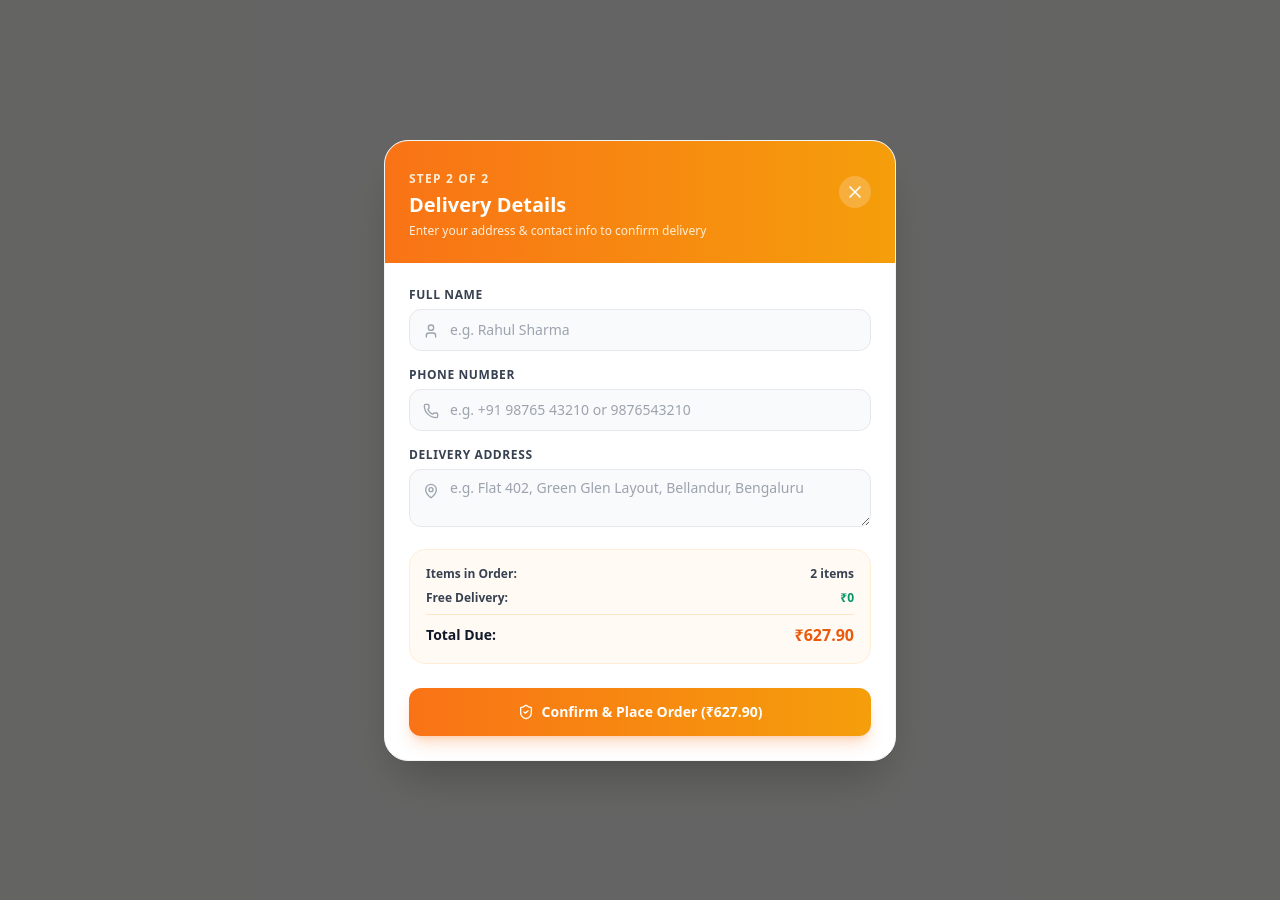
UI Components (TDD) › CheckoutModal Component › displays client-side validation errors when submitting empty form
Click the button "Confirm & Place Order (₹627.90)" at (640, 712), box [409, 688, 871, 736]
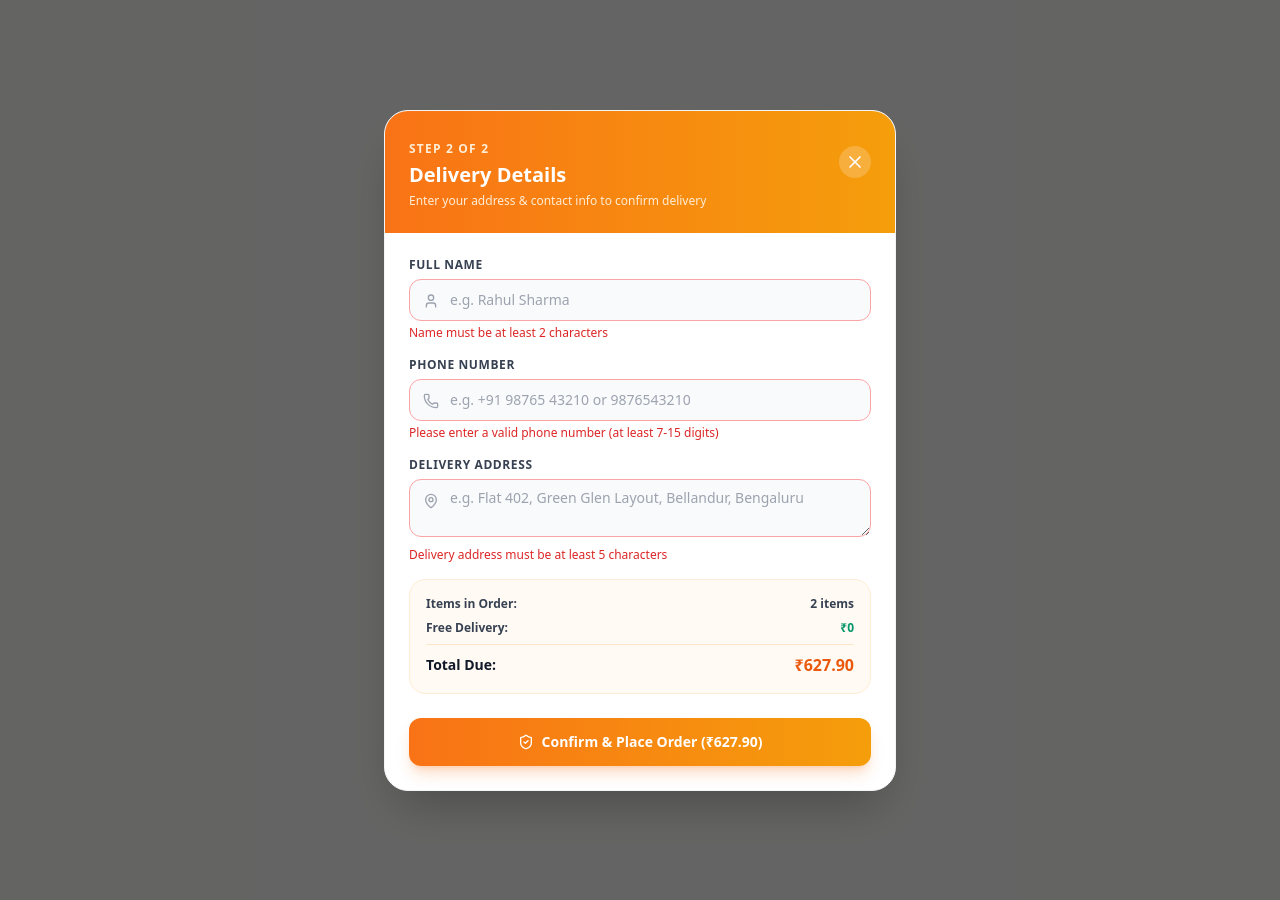
Now the text "Name must be at least 2 characters" is shown, box [409, 324, 608, 340]
Now the text "Please enter a valid phone number (at least 7-15 digits)" is shown, box [409, 424, 719, 440]
Now the text "Delivery address must be at least 5 characters" is shown, box [409, 546, 667, 562]
